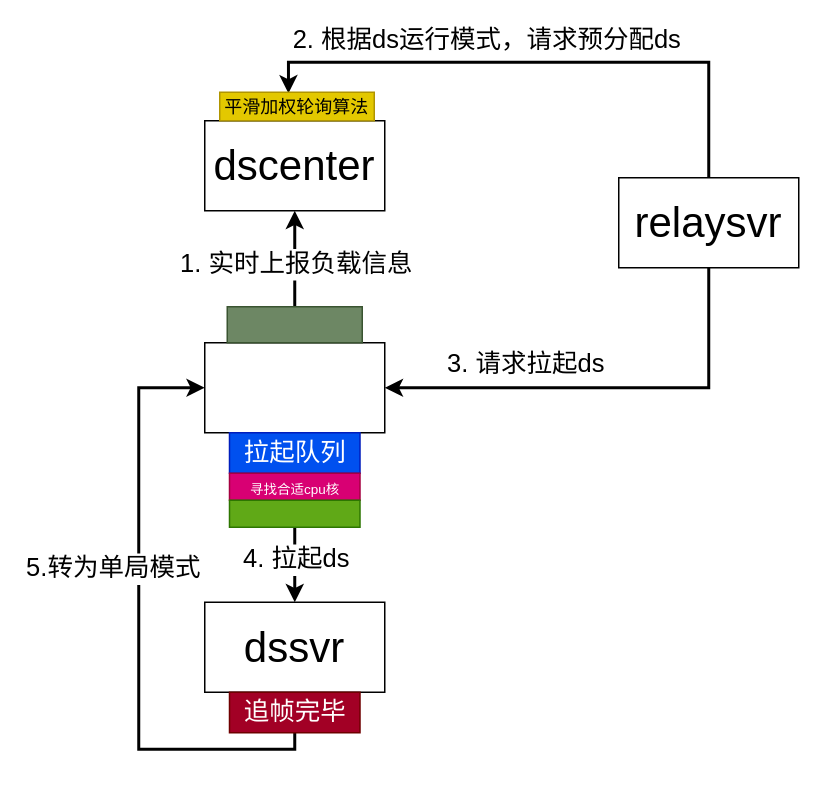
This 825x789 diagram has some shape labels left out. Each missing label, with the centre of its shape:
cpu数负载计算: (x=294, y=324)
dsagent: (x=294, y=387)
绑核: (x=294, y=513)
